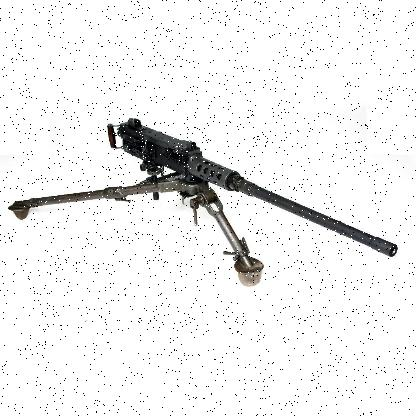gun: (8, 116, 396, 284)
